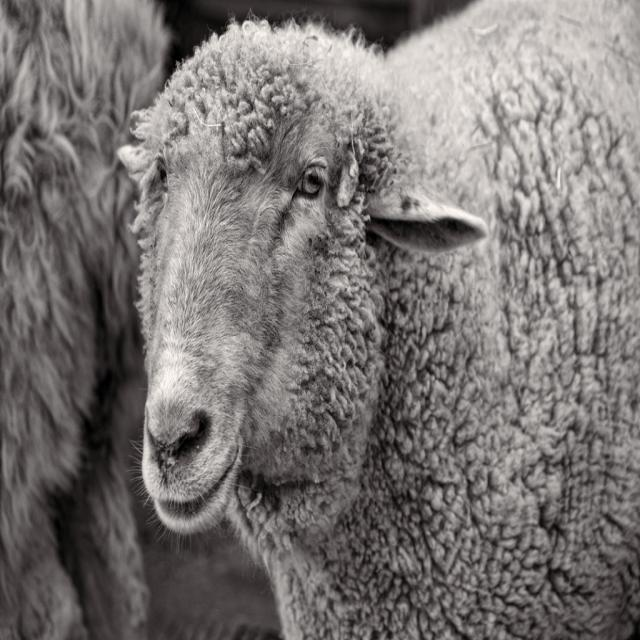Sheep: (108, 0, 639, 639)
